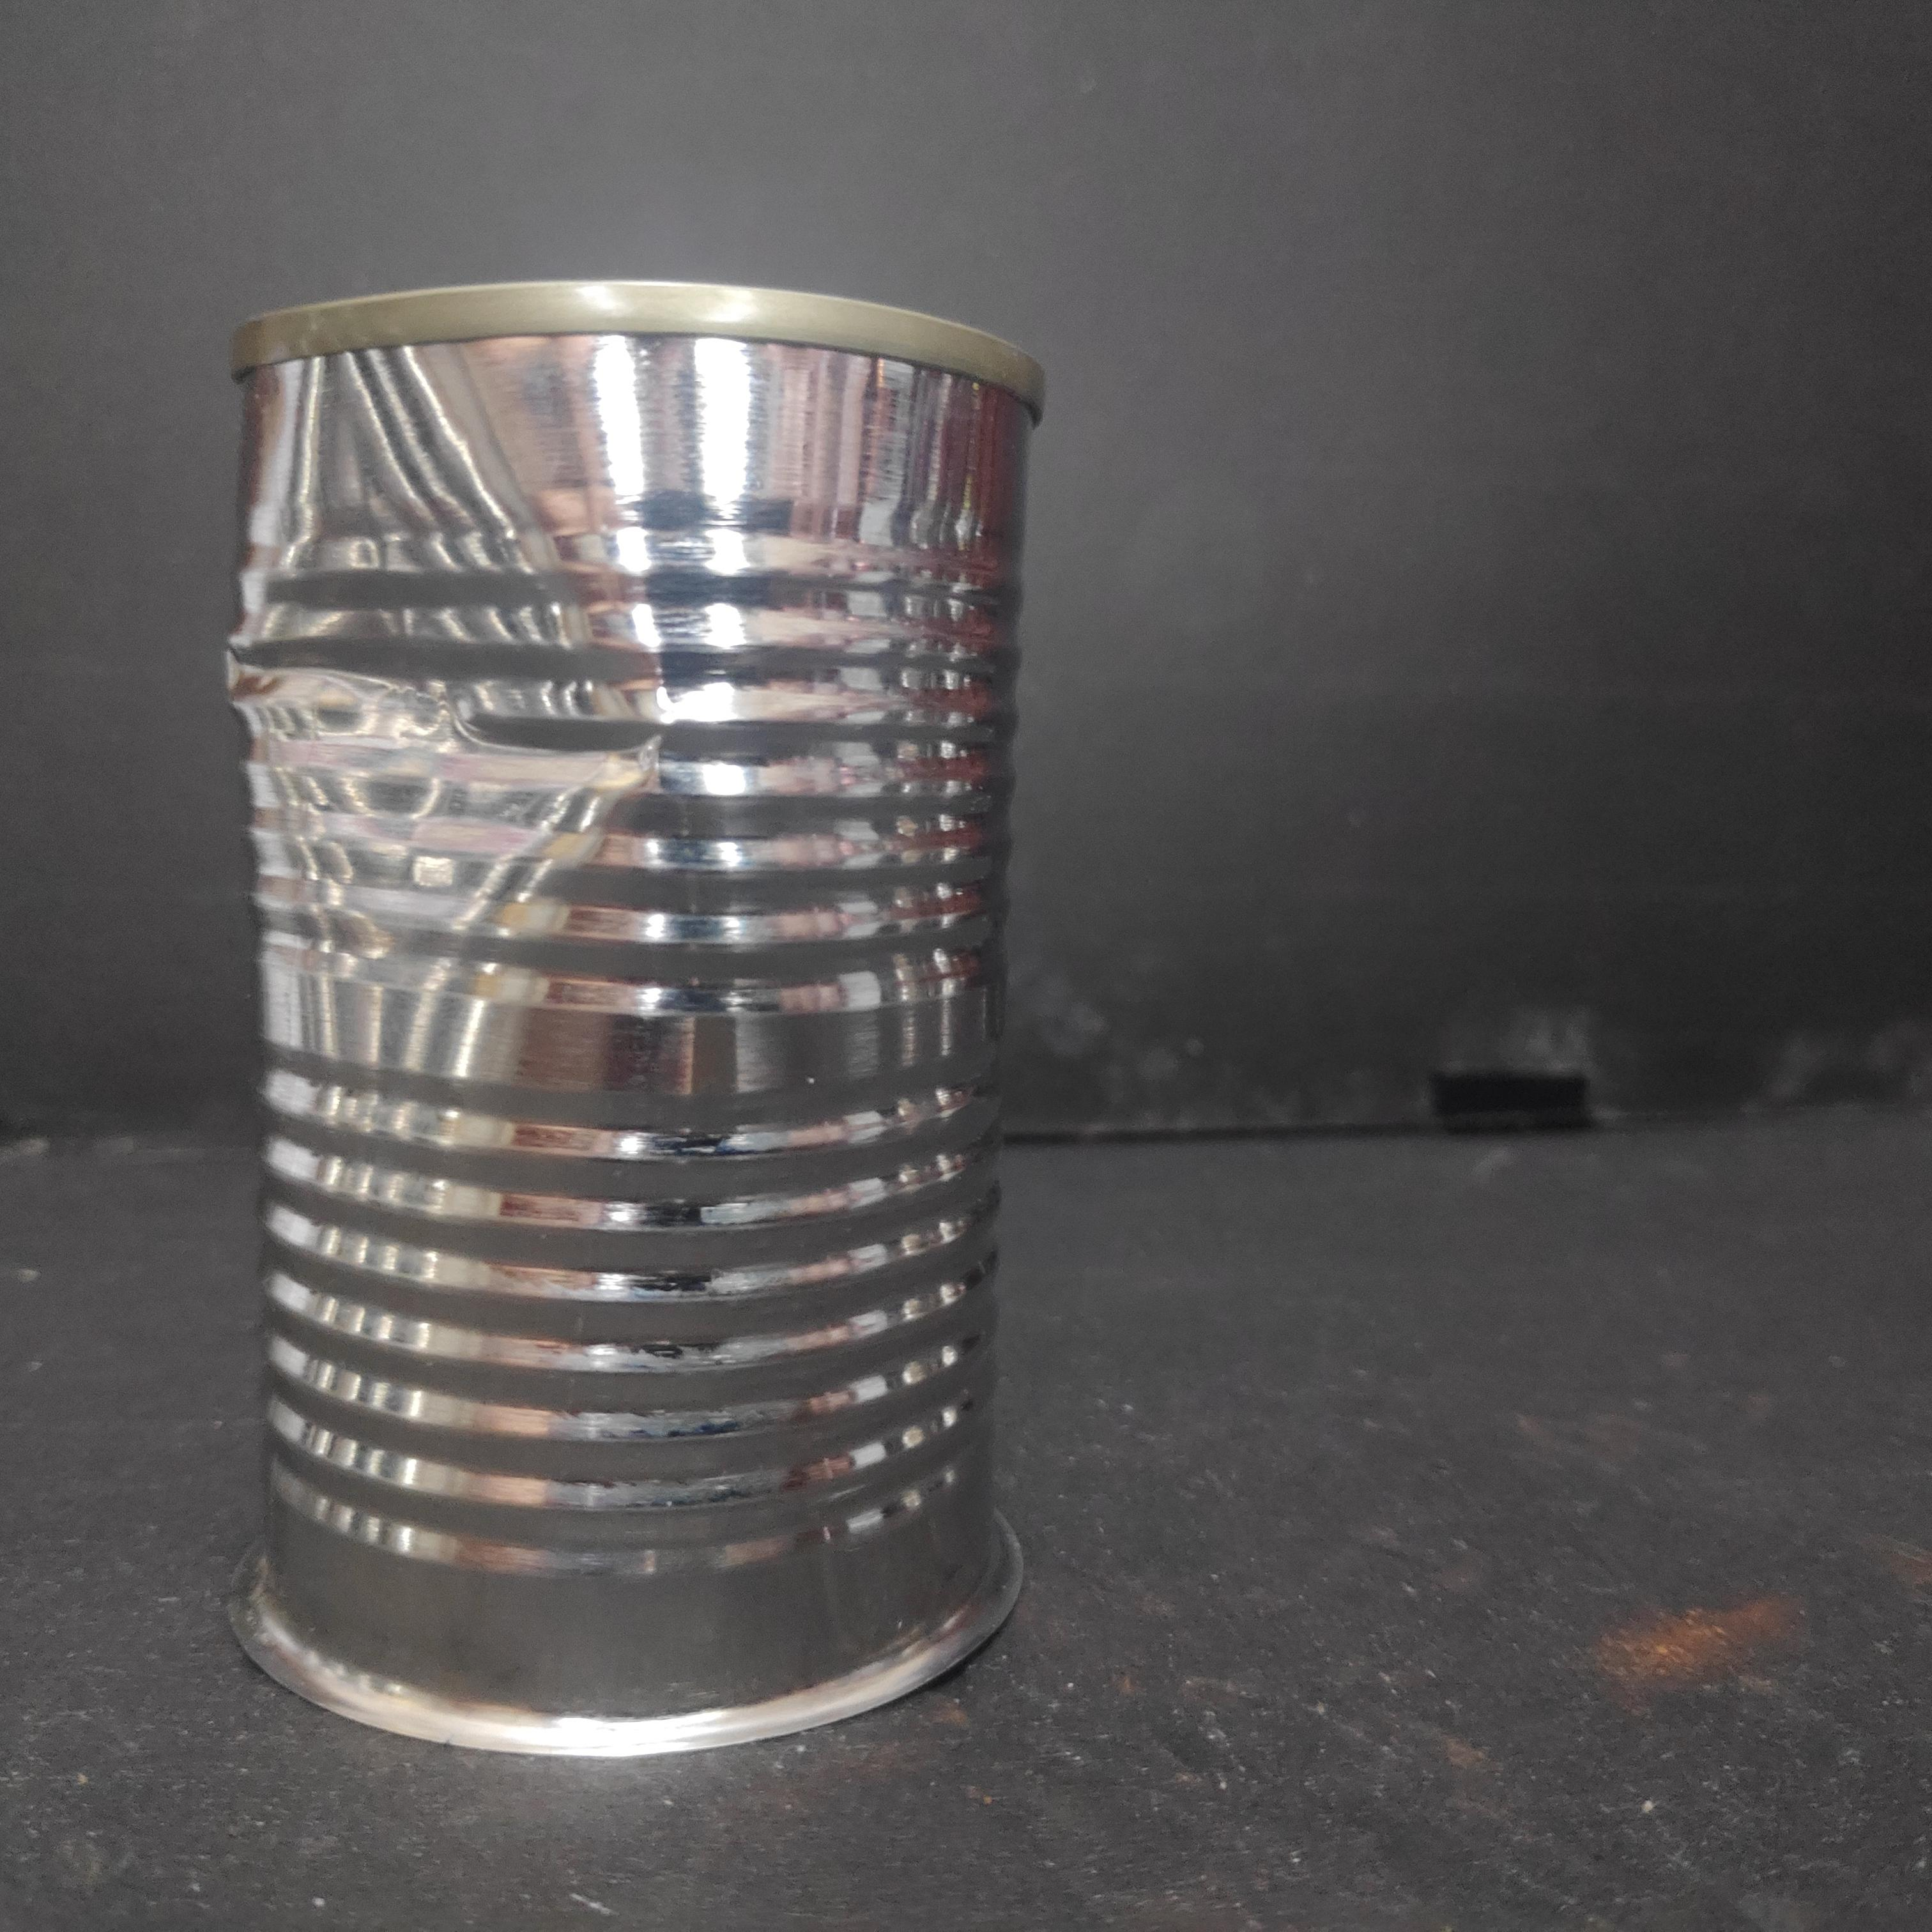Minor Defect: (212, 262, 1051, 1776)
